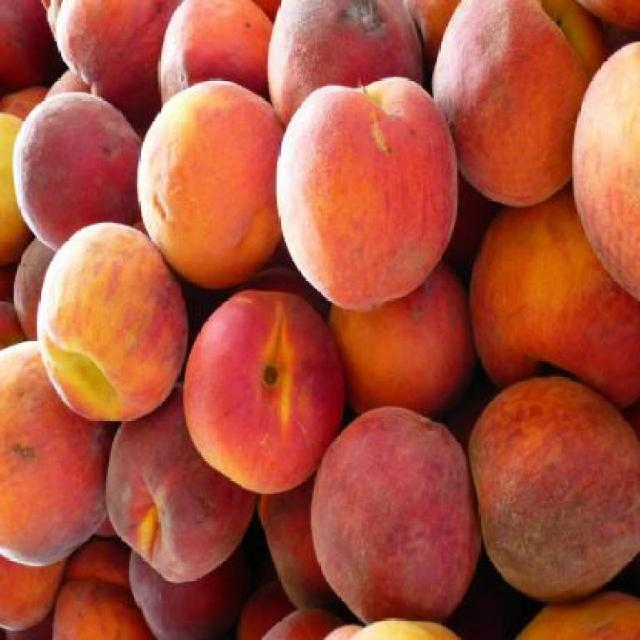Peach: (0, 0, 638, 638), (271, 74, 463, 312)
